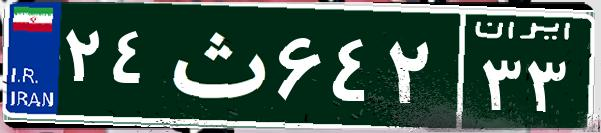2: (385, 28, 445, 110), (57, 26, 110, 107)
3: (475, 38, 525, 113), (525, 38, 570, 115)
4: (330, 28, 385, 110), (110, 28, 158, 105)
6: (273, 28, 330, 110)
ث: (158, 15, 273, 115)
